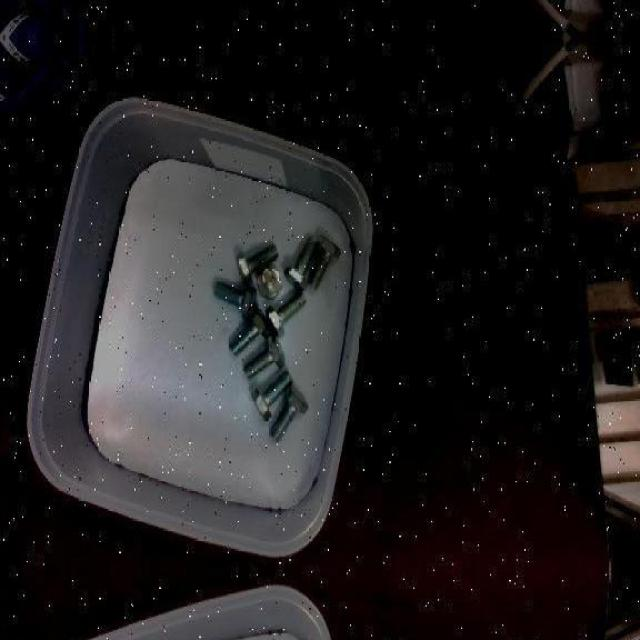screw: (270, 384, 309, 442), (230, 304, 272, 355), (252, 370, 294, 421), (243, 334, 286, 379), (283, 237, 318, 290), (309, 234, 342, 290), (266, 290, 306, 336), (237, 243, 279, 286), (213, 280, 257, 320), (257, 266, 282, 298)
